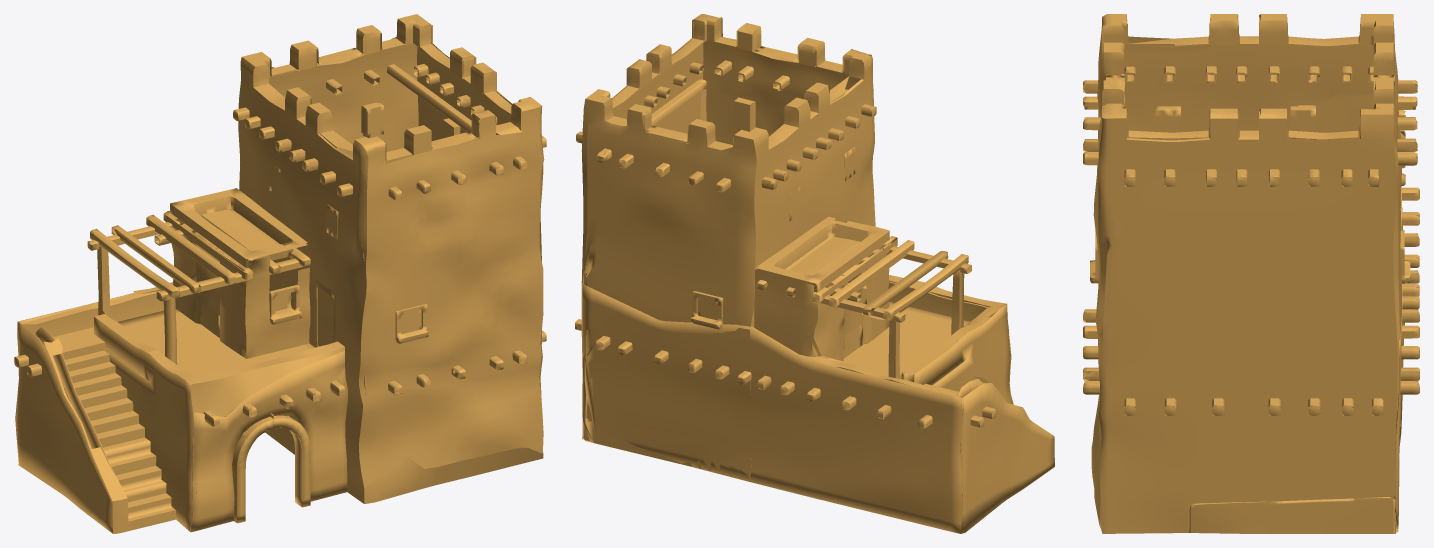
File: buildings_4.fbx
3 views of the same model, side by side, from view 1: azimuth 30°, elevation 25°; view 2: azimuth 150°, elevation 25°; view 3: azimuth 270°, elevation 25° (orthographic). The views are drawn at different scales.
Parts seen in each view (by area): view 1: Retopo_Untitled_Desert_themed_tower_with_stairs_and_win_87e5 (×14); view 2: Retopo_Untitled_Desert_themed_tower_with_stairs_and_win_87e5 (×10); view 3: Retopo_Untitled_Desert_themed_tower_with_stairs_and_win_87e5 (×3).
Part boxes in pixels (left/top/right/bottom): Retopo_Untitled_Desert_themed_tower_with_stairs_and_win_87e5 (×14): left=15, top=14, right=544, bottom=533; Retopo_Untitled_Desert_themed_tower_with_stairs_and_win_87e5 (×10): left=581, top=14, right=1054, bottom=533; Retopo_Untitled_Desert_themed_tower_with_stairs_and_win_87e5 (×3): left=1091, top=14, right=1404, bottom=533.
Bounding box in the file's own units: 4937 × 3957 × 2884.
